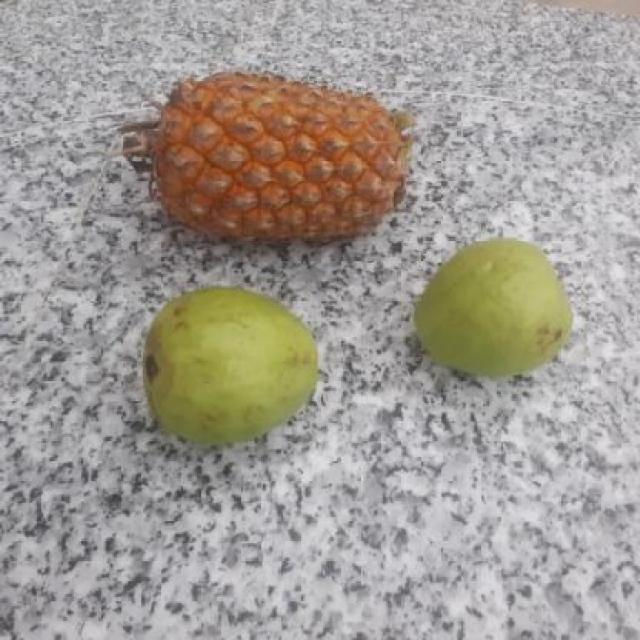guava: (134, 293, 314, 444), (409, 240, 574, 374)
pineapple: (146, 68, 409, 250)
